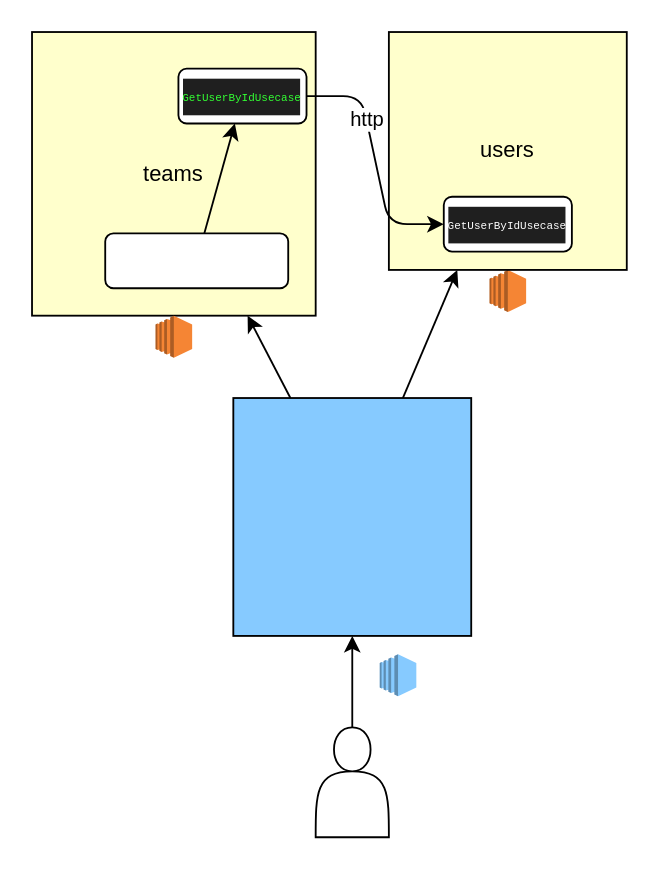
The diagram is 659 pixels wide and 869 high, and some of its shapes have lost their labels. Here are the shapes that lost their labels. From the top down, the centre of each, then its label:
At (195,259): "AsignNewMemberToTeamUsecase".
At (351,516): "load balancer gateway".
